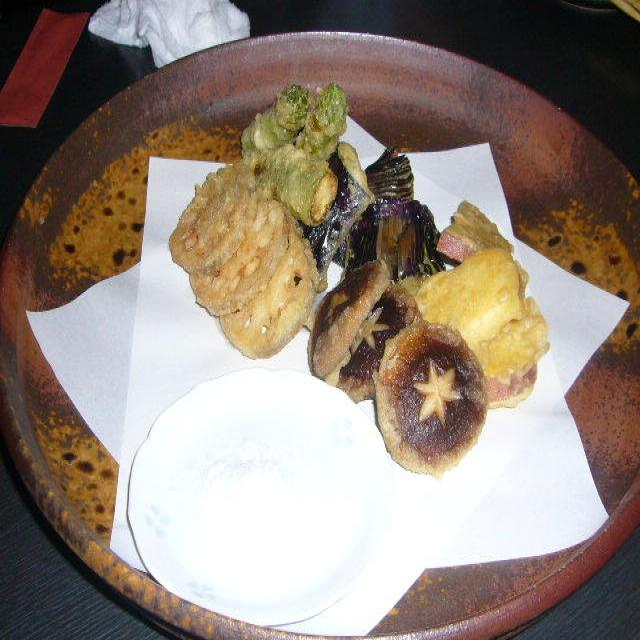蔬菜料理: (168, 55, 582, 480)
